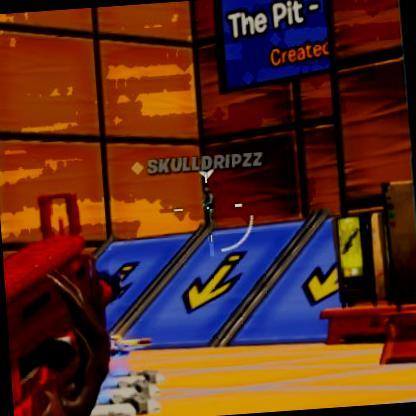person: (198, 182, 222, 230)
